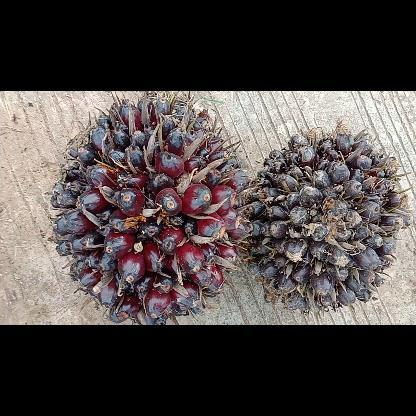TBS mentah: (46, 95, 250, 324), (242, 123, 414, 315)
